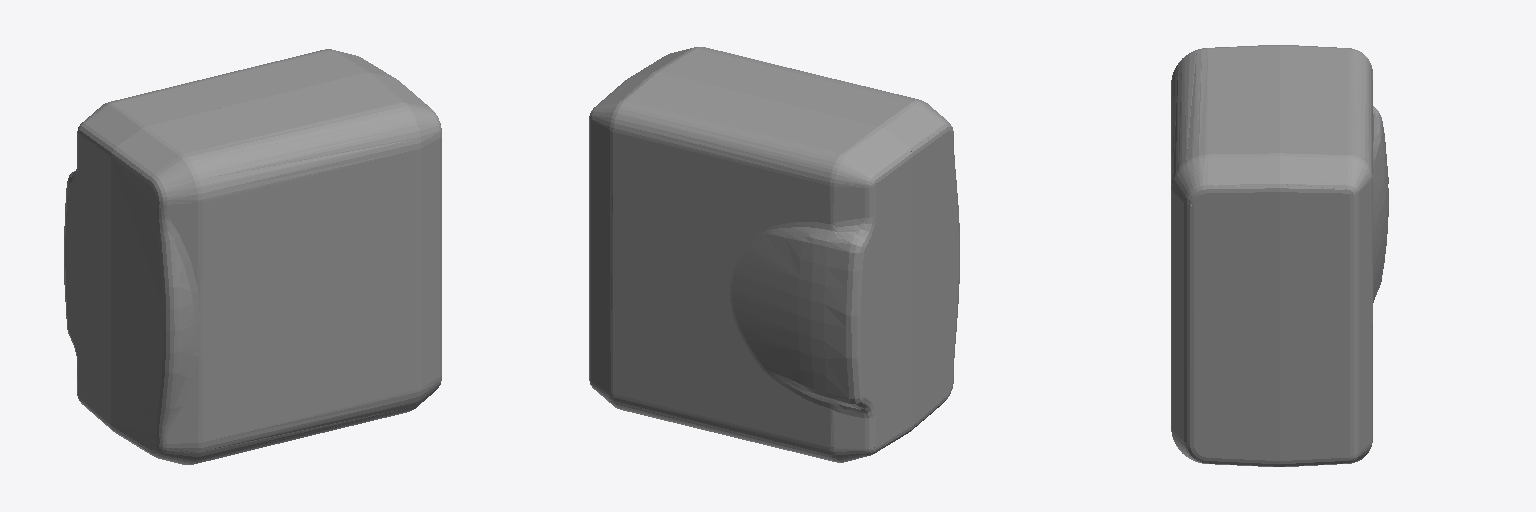
File: gripper_link.obj
The picture shows the model from 3 angles: view 1: azimuth 30°, elevation 25°; view 2: azimuth 150°, elevation 25°; view 3: azimuth 270°, elevation 25°; orthographic projection.
Parts seen in each view (by area): view 1: gripper_link_gripper_link.001; view 2: gripper_link_gripper_link.001; view 3: gripper_link_gripper_link.001.
Boxes of the visible parts, x1,y1,x2,y2 form: gripper_link_gripper_link.001: [64, 49, 441, 464]; gripper_link_gripper_link.001: [589, 47, 959, 462]; gripper_link_gripper_link.001: [1171, 45, 1388, 466].
Size of the model in its own units: 0.122 by 0.1261 by 0.0795.